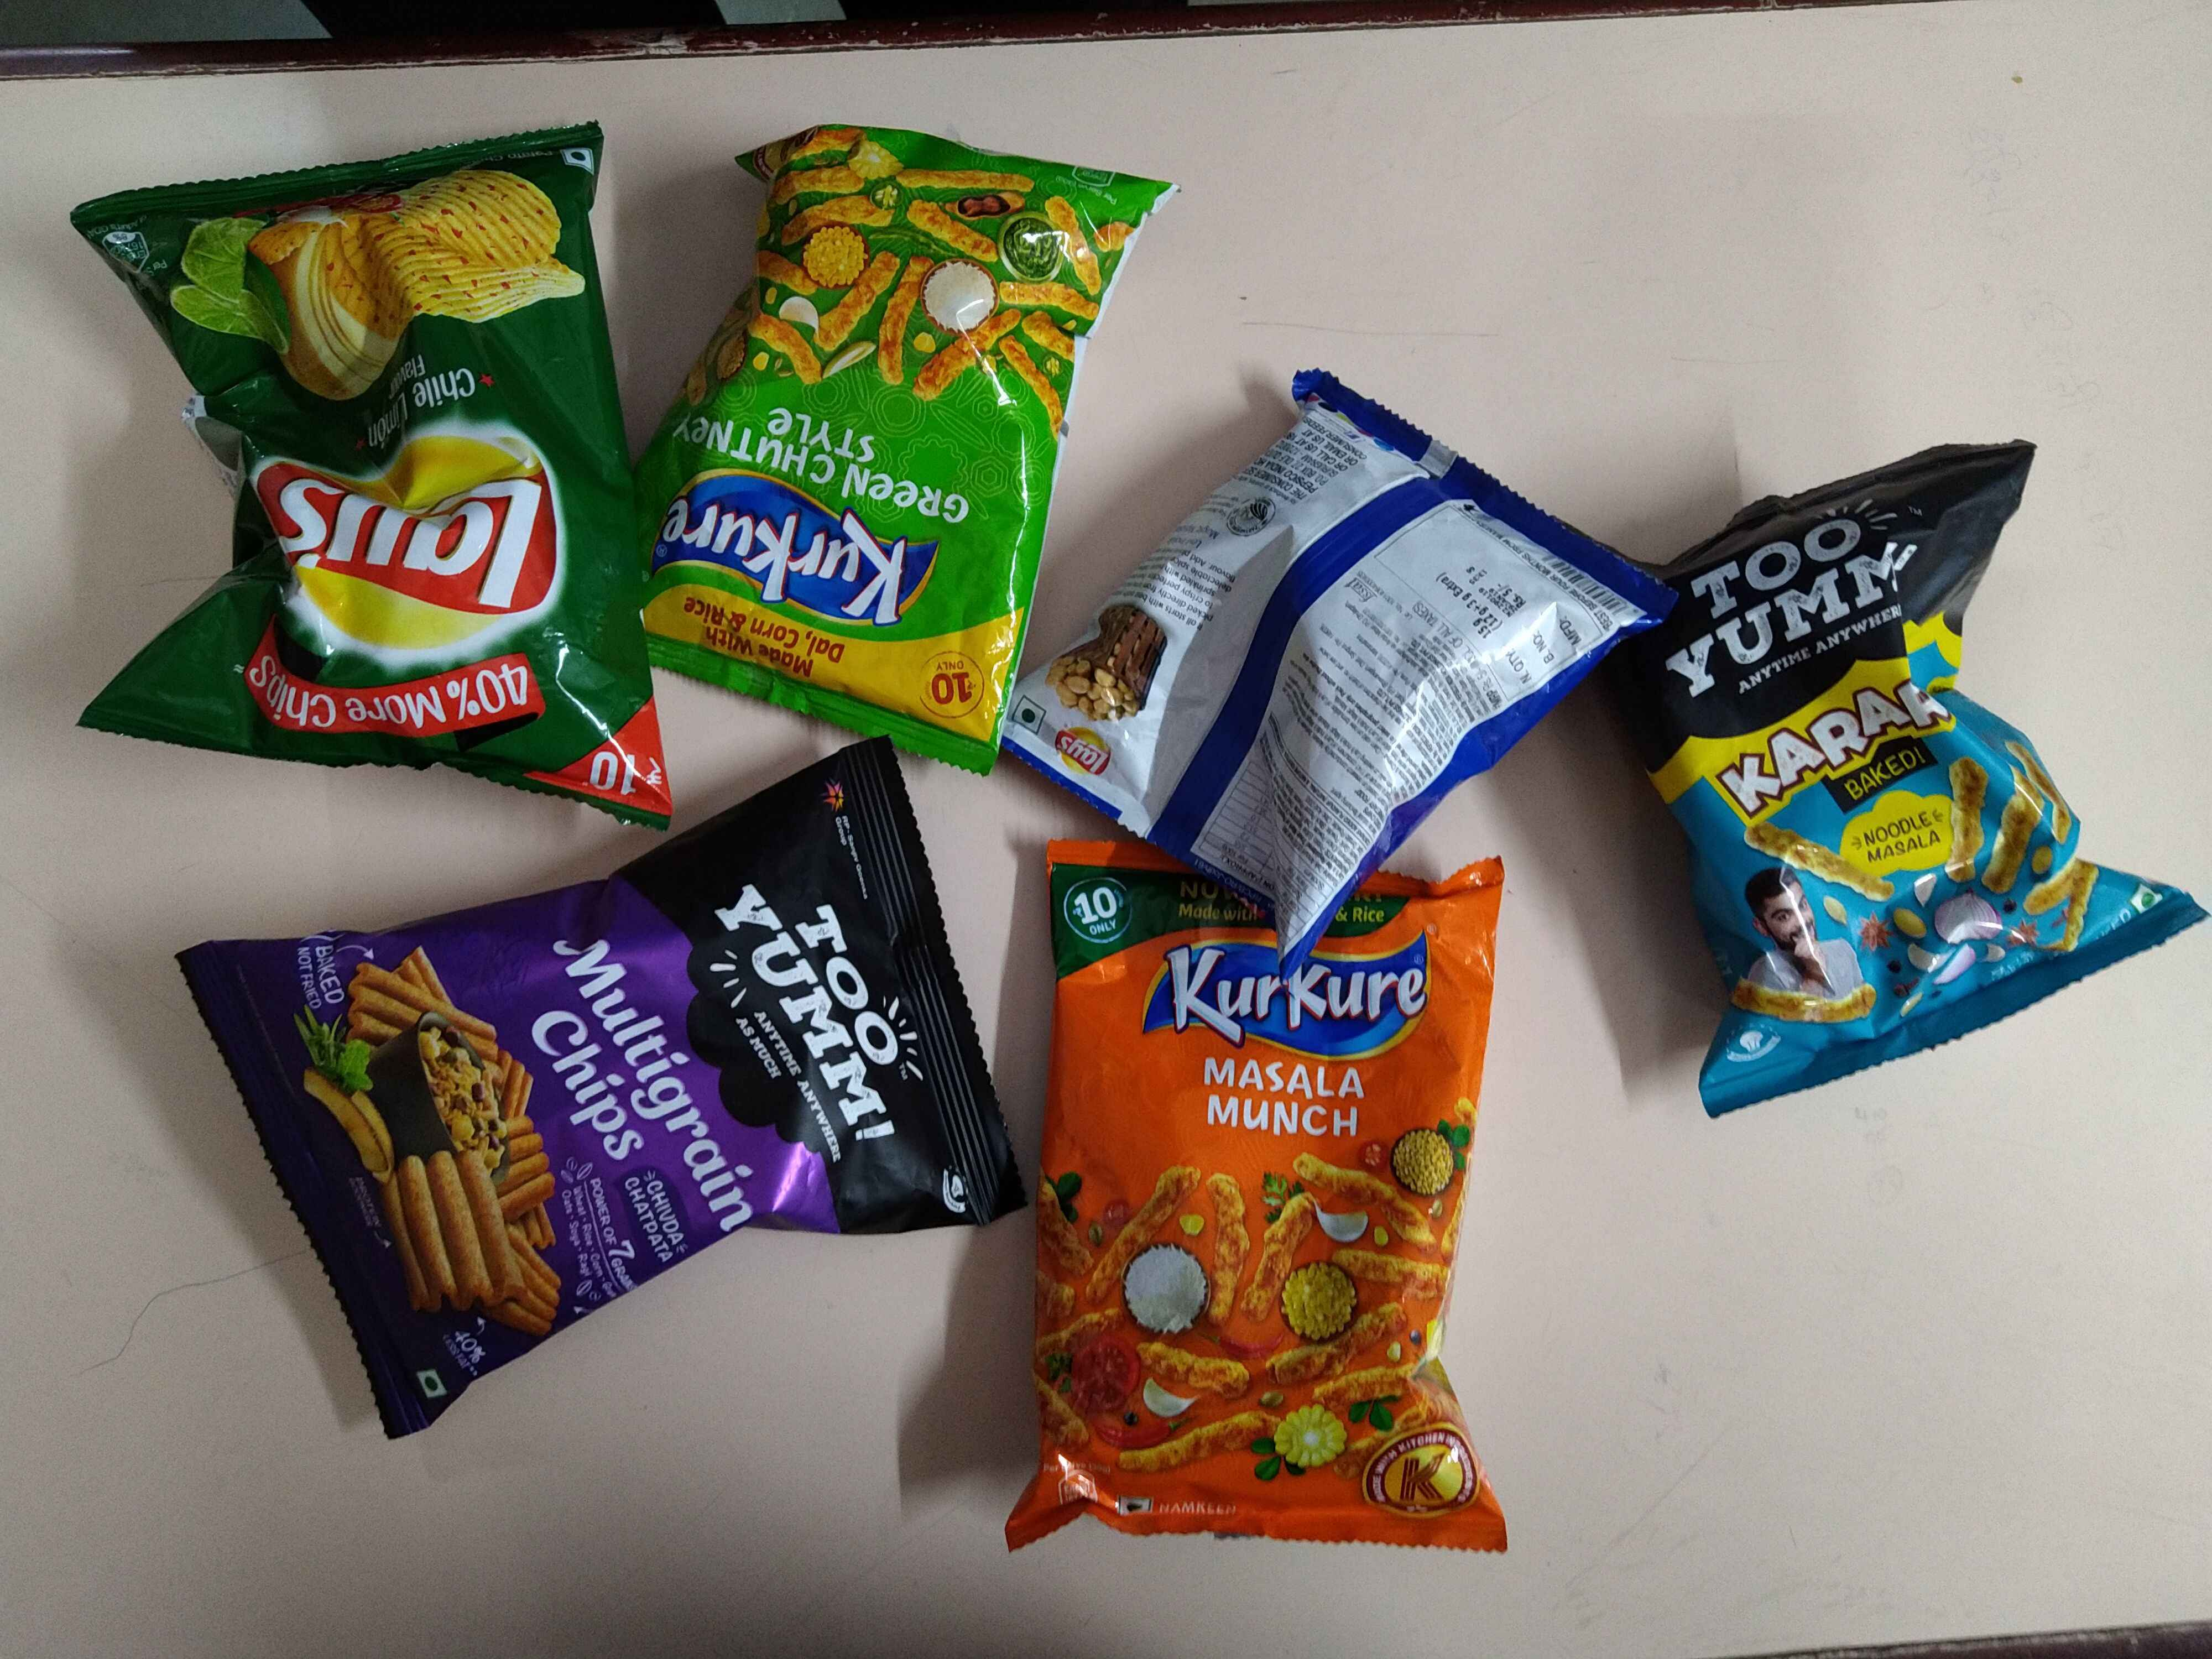Lays: (244, 420, 592, 667), (1045, 720, 1125, 793)
kurkure: (641, 471, 946, 638), (1134, 936, 1435, 1072)
tooyumm: (693, 850, 923, 1157), (1667, 509, 1939, 720)
